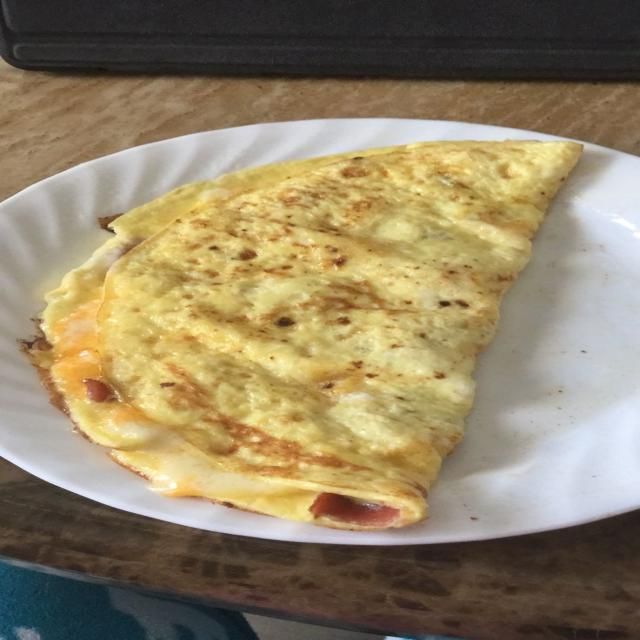omelette: (30, 142, 580, 529)
